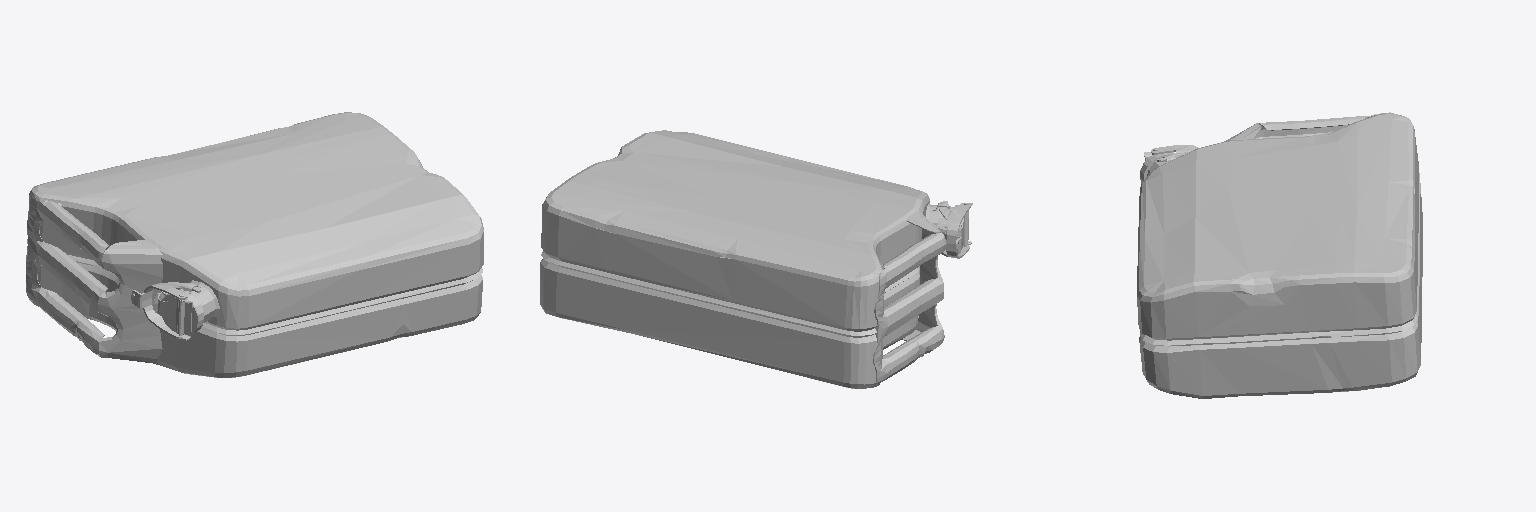
The model's file is bens.obj.
3 views of the same model, side by side, from view 1: azimuth 30°, elevation 25°; view 2: azimuth 150°, elevation 25°; view 3: azimuth 270°, elevation 25° (orthographic).
Visible parts, largest first — view 1: Mesh Mesh; view 2: Mesh Mesh; view 3: Mesh Mesh.
Boxes of the visible parts, x1=… form: Mesh Mesh: x1=26, y1=112, x2=483, y2=377; Mesh Mesh: x1=540, y1=130, x2=972, y2=388; Mesh Mesh: x1=1137, y1=112, x2=1422, y2=398.
Size of the model in its own units: 3.59 by 1.3 by 2.63.